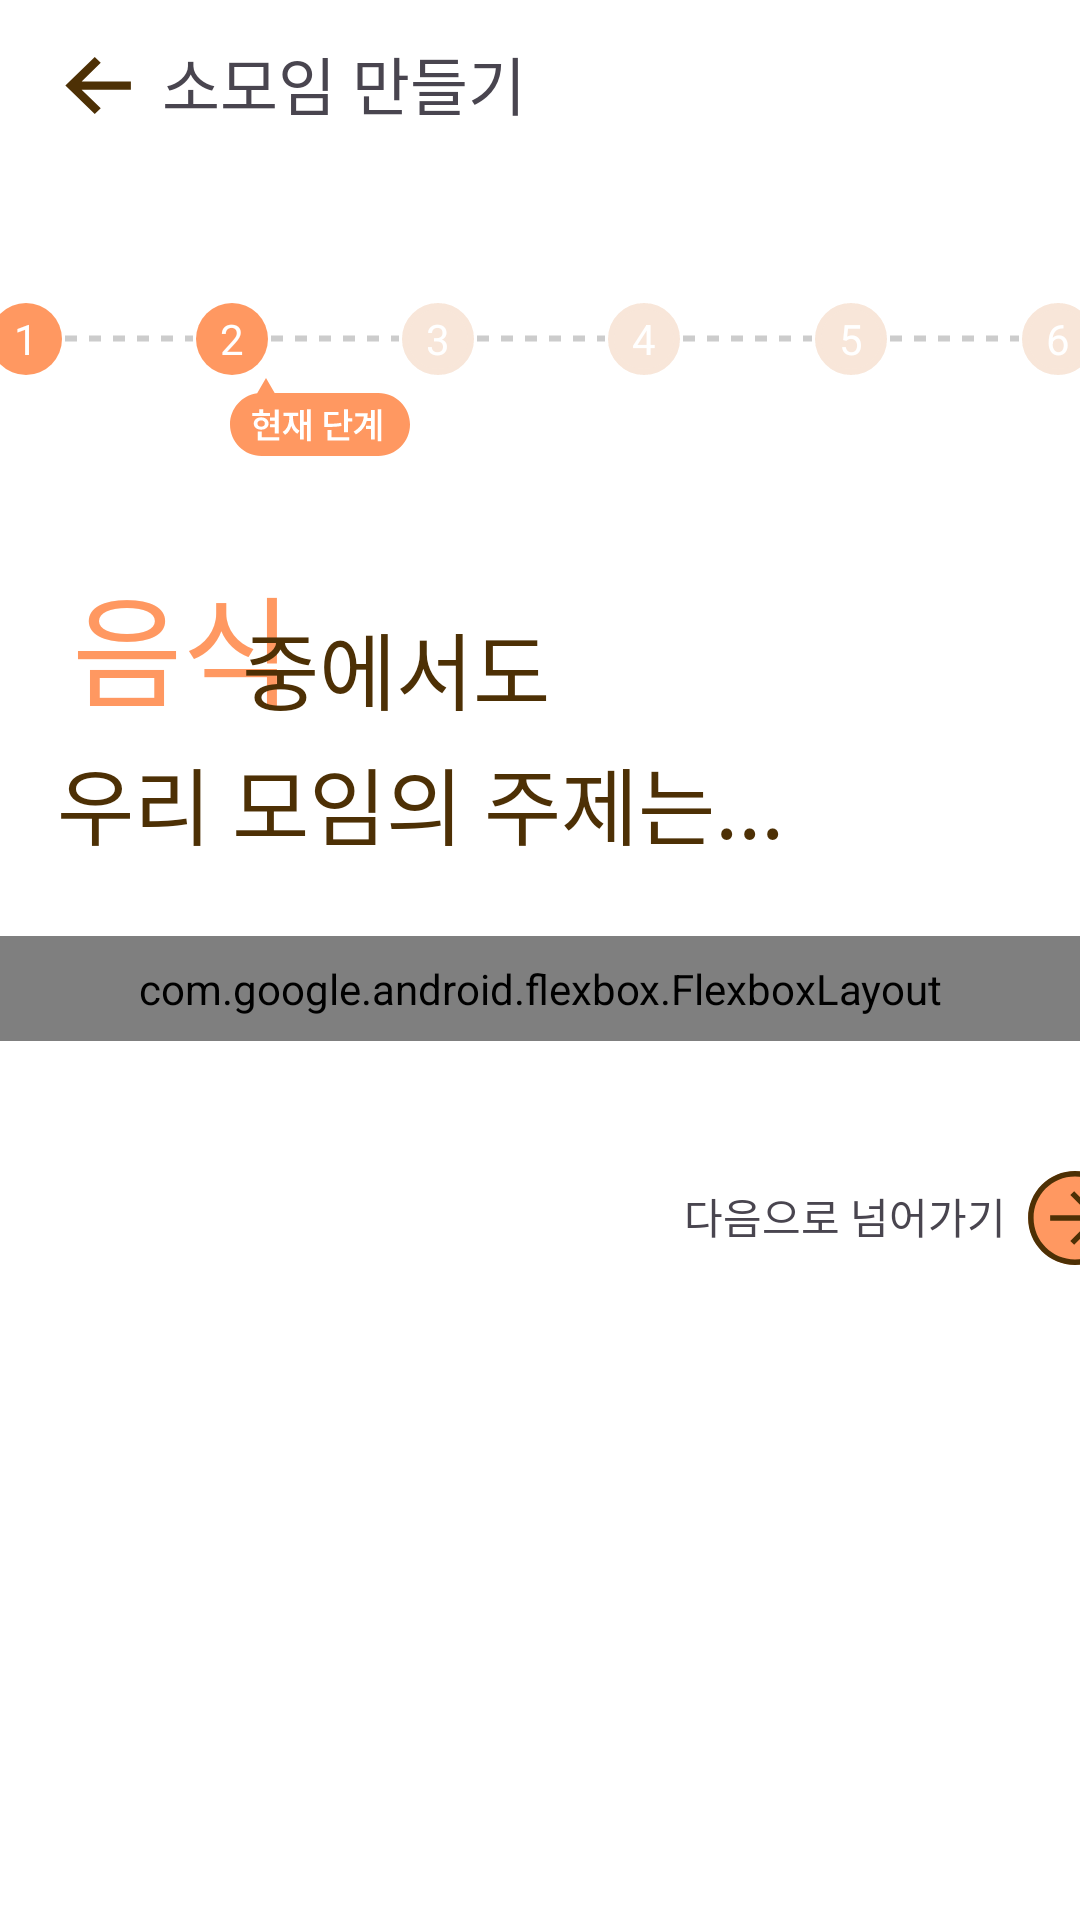

Icon bounding boxes for this 1080×1920 phone screenshot, format (x1, y1, x2, y2):
meeting backbutton: (65, 57, 131, 114)
